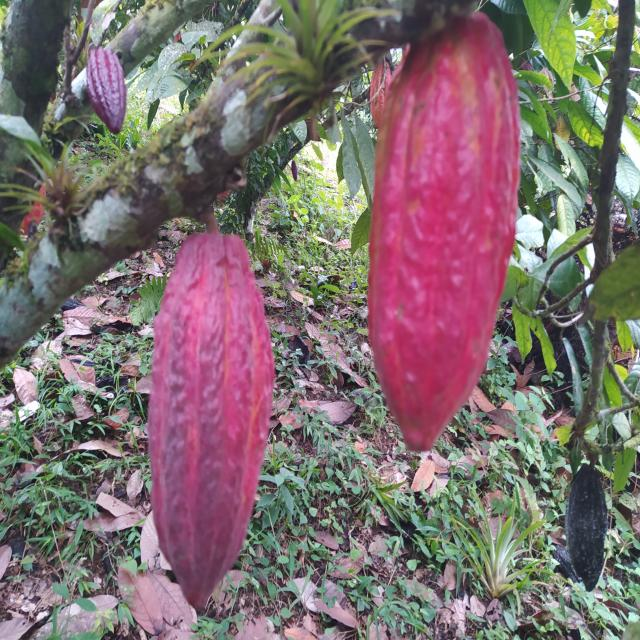Fitoftora: (566, 468, 609, 591)
Sana: (366, 10, 522, 455), (147, 220, 274, 613), (85, 43, 128, 135)
